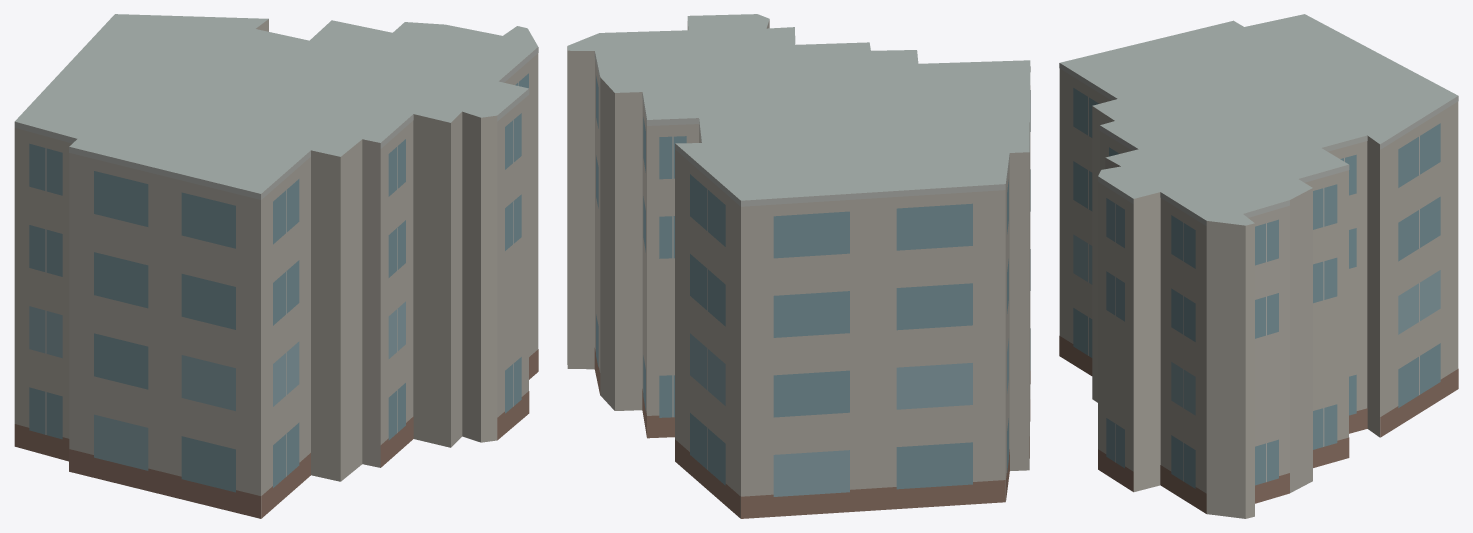
The model's file is survey-upis-32679082.glb.
The picture shows the model from 3 angles, left to right: view 1: azimuth 30°, elevation 25°; view 2: azimuth 150°, elevation 25°; view 3: azimuth 270°, elevation 25°; orthographic projection. The views are drawn at different scales.
Parts seen in each view (by area): view 1: survey-upis-32679082.tmp; view 2: survey-upis-32679082.tmp; view 3: survey-upis-32679082.tmp.
Boxes of the visible parts, x1=… form: survey-upis-32679082.tmp: x1=14, y1=14, x2=538, y2=518; survey-upis-32679082.tmp: x1=567, y1=14, x2=1030, y2=518; survey-upis-32679082.tmp: x1=1059, y1=14, x2=1458, y2=518.
Size of the model in its own units: 20.07 by 12.97 by 15.99.
